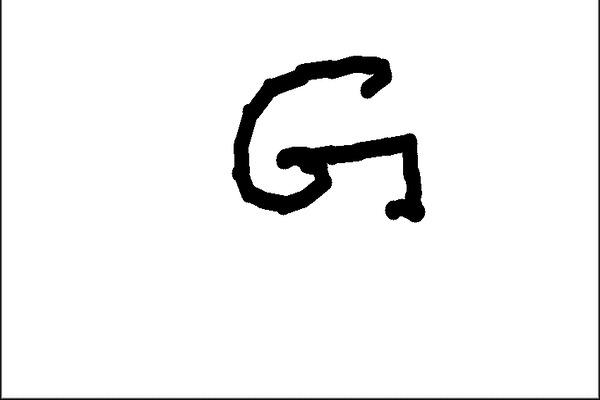G: (228, 51, 429, 231)
